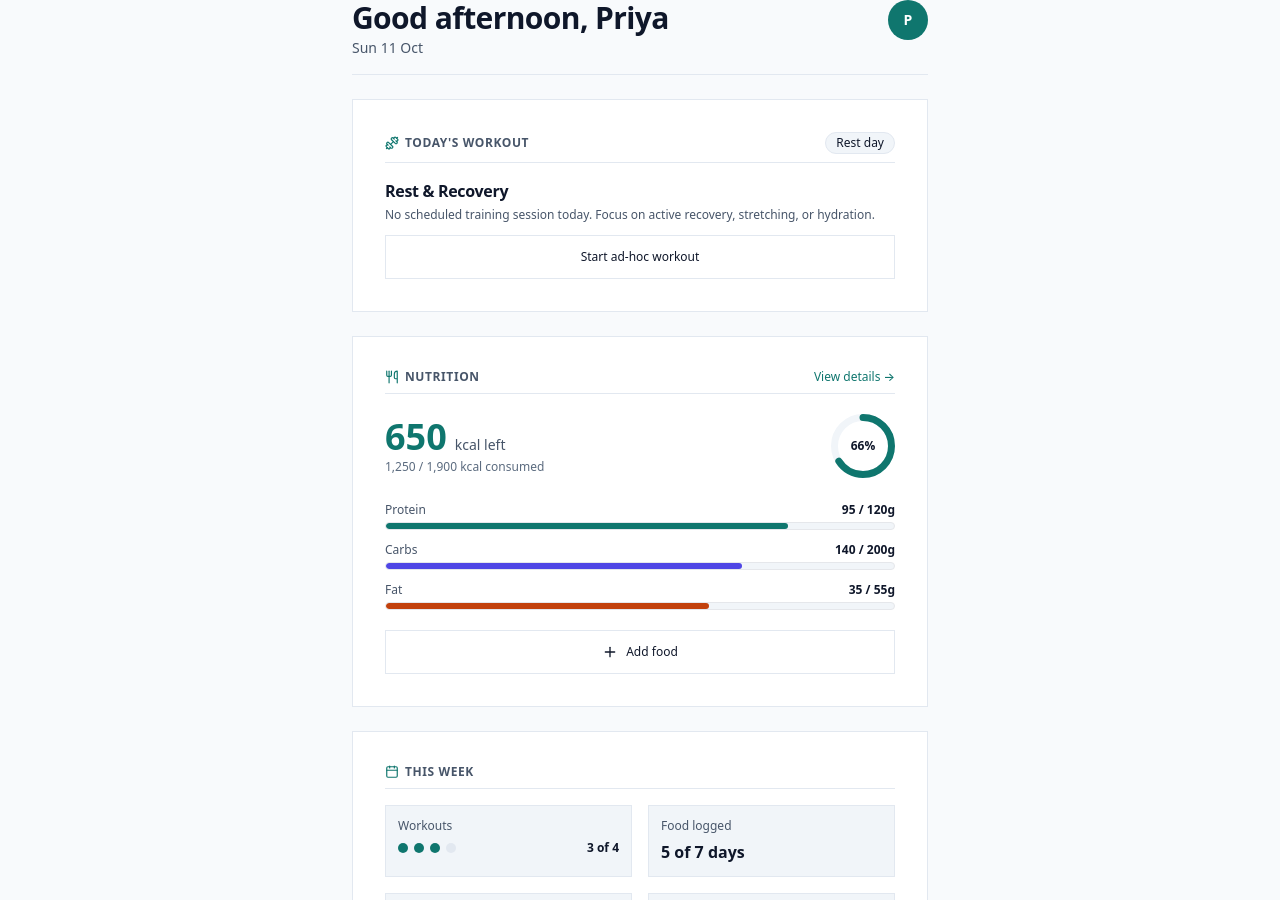
Test: Milestone M5 — Today Screen (DashboardPage / Appendix E) › toggles AddFoodSheet when Add food button is clicked
The image size is (1280, 900).
Click the button "Add food" at [640, 652], box [385,630,895,674]
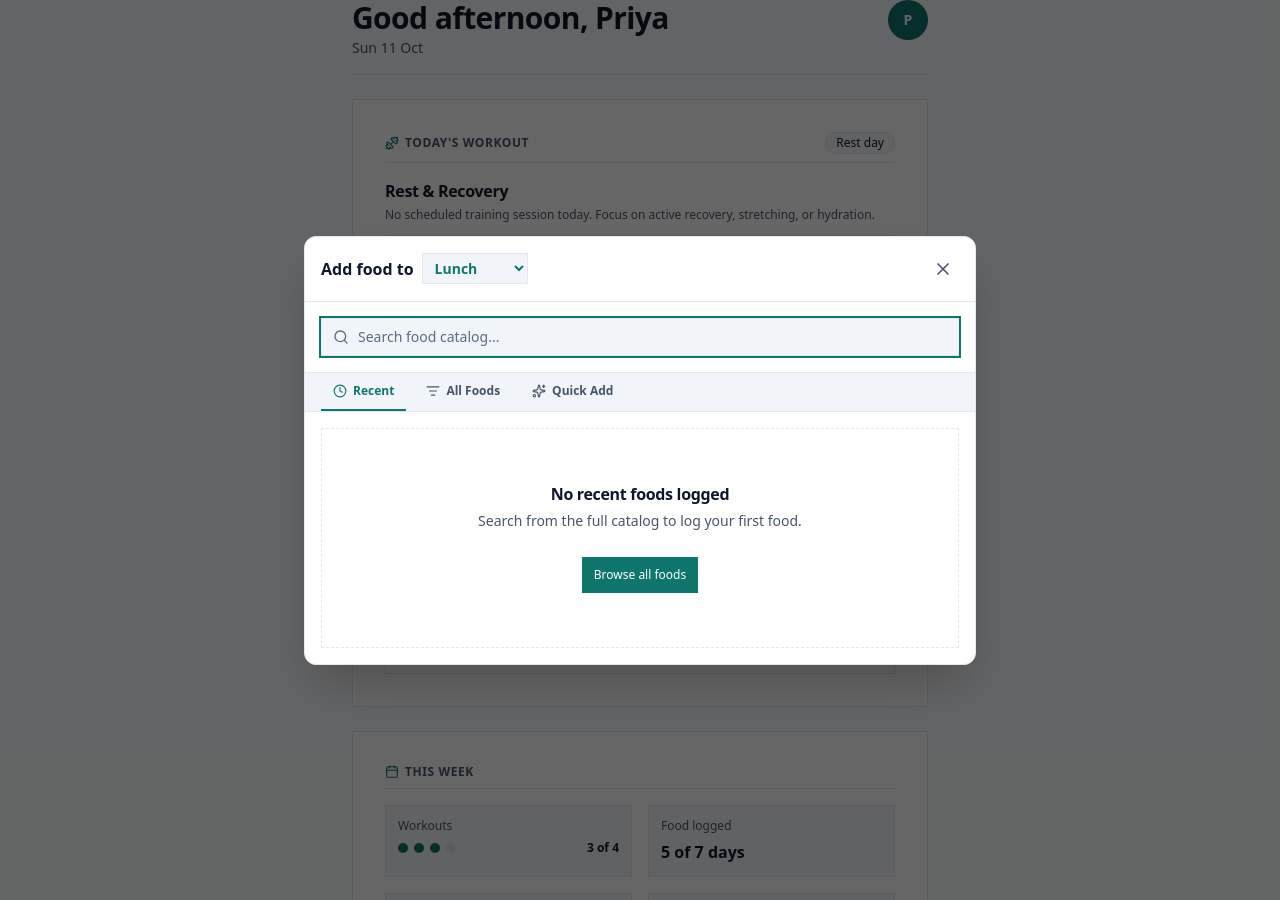
Check: the text "Add food to" is shown, box [321,256,414,280]
Check: the button "Recent" is shown, box [321,372,406,410]
Check: the button "All Foods" is shown, box [414,372,512,410]
